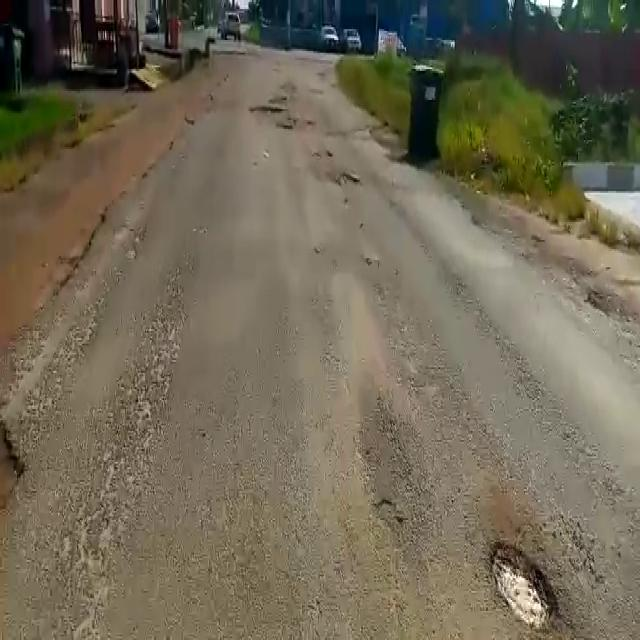Pothole: (486, 538, 562, 632), (321, 170, 364, 191)
